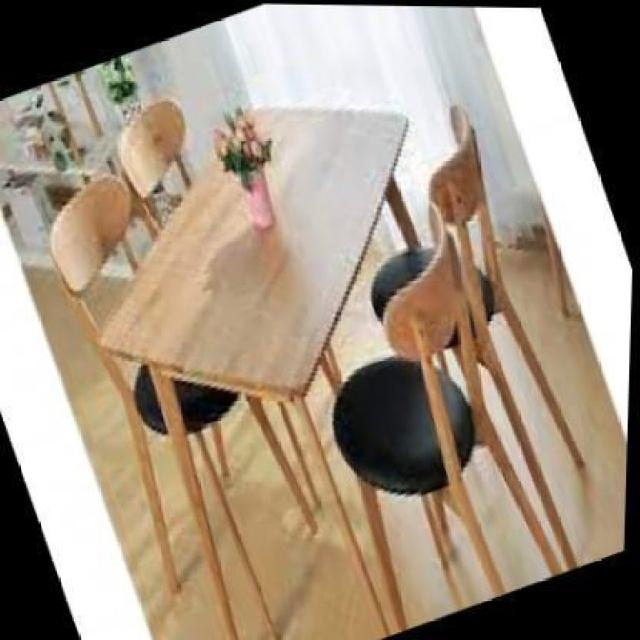tables: (95, 103, 414, 639)
